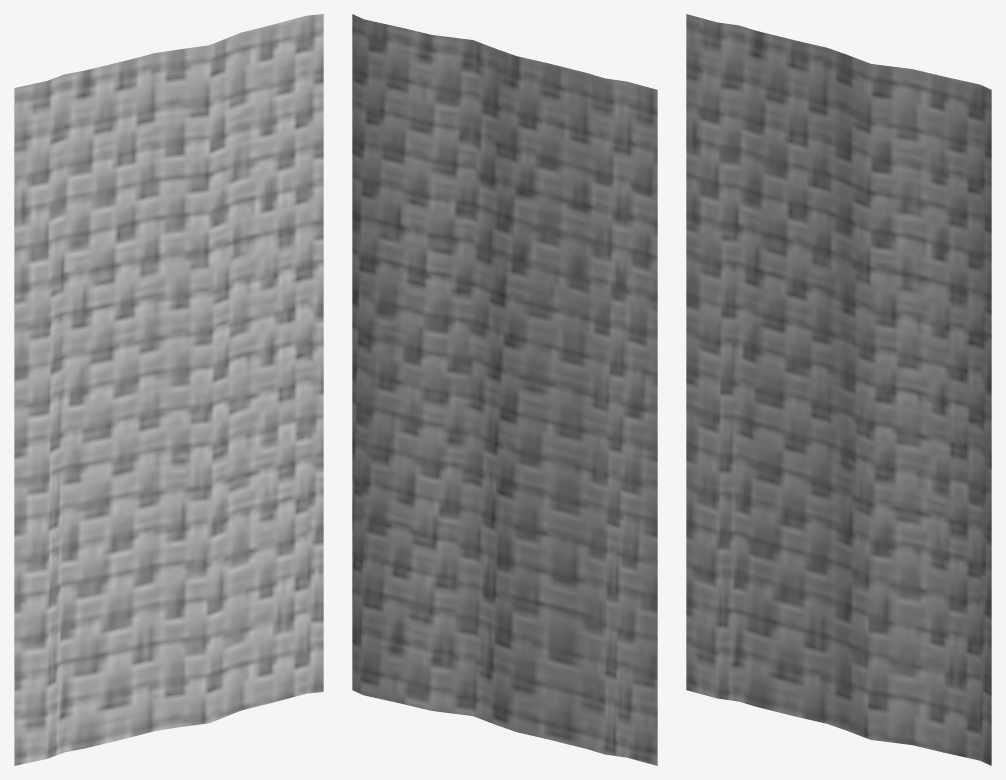
File: curtainb_static.fbx
3 views of the same model, side by side, from view 1: azimuth 30°, elevation 25°; view 2: azimuth 150°, elevation 25°; view 3: azimuth 330°, elevation 25° (orthographic).
Visible parts, largest first — view 1: curtainb_static; view 2: curtainb_static; view 3: curtainb_static.
Part boxes in pixels (x1,y1,x2,y2): curtainb_static: (14, 14, 323, 765); curtainb_static: (352, 14, 657, 765); curtainb_static: (686, 14, 991, 765).
Size of the model in its own units: 1.5 by 3.16 by 0.0553.
